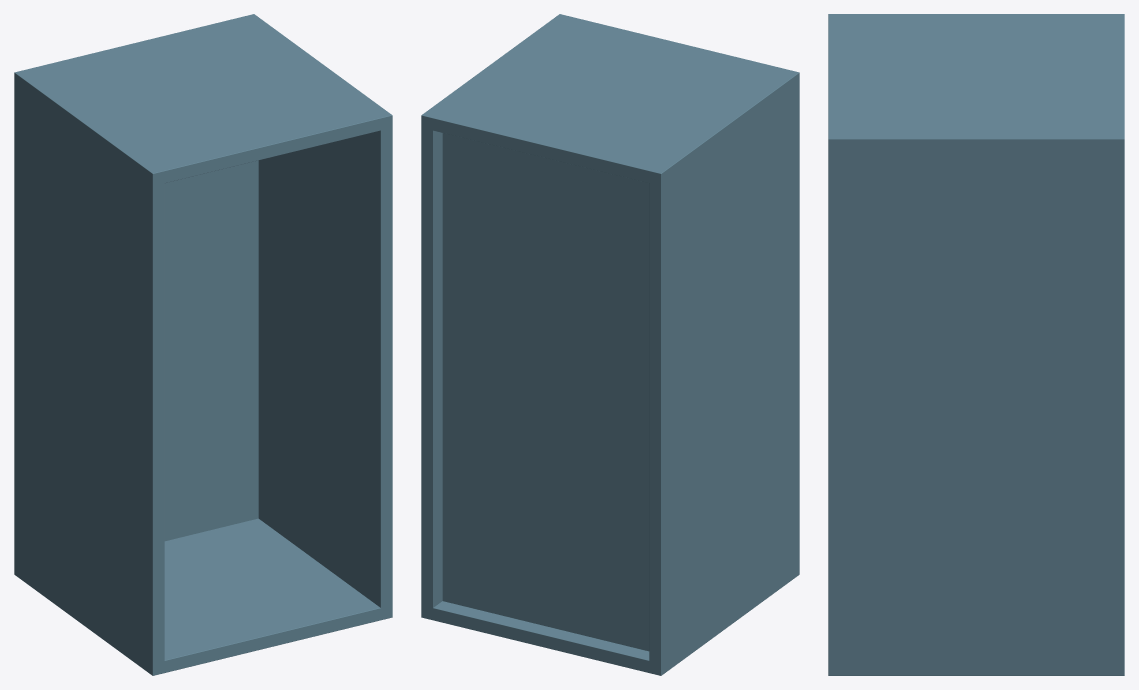
Rendered from MOD-1X2-A-B-AC.glb.
3 views of the same model, side by side, from view 1: azimuth 30°, elevation 25°; view 2: azimuth 150°, elevation 25°; view 3: azimuth 270°, elevation 25° (orthographic). The views are drawn at different scales.
Size of the model in its own units: 360 by 720 by 360.
